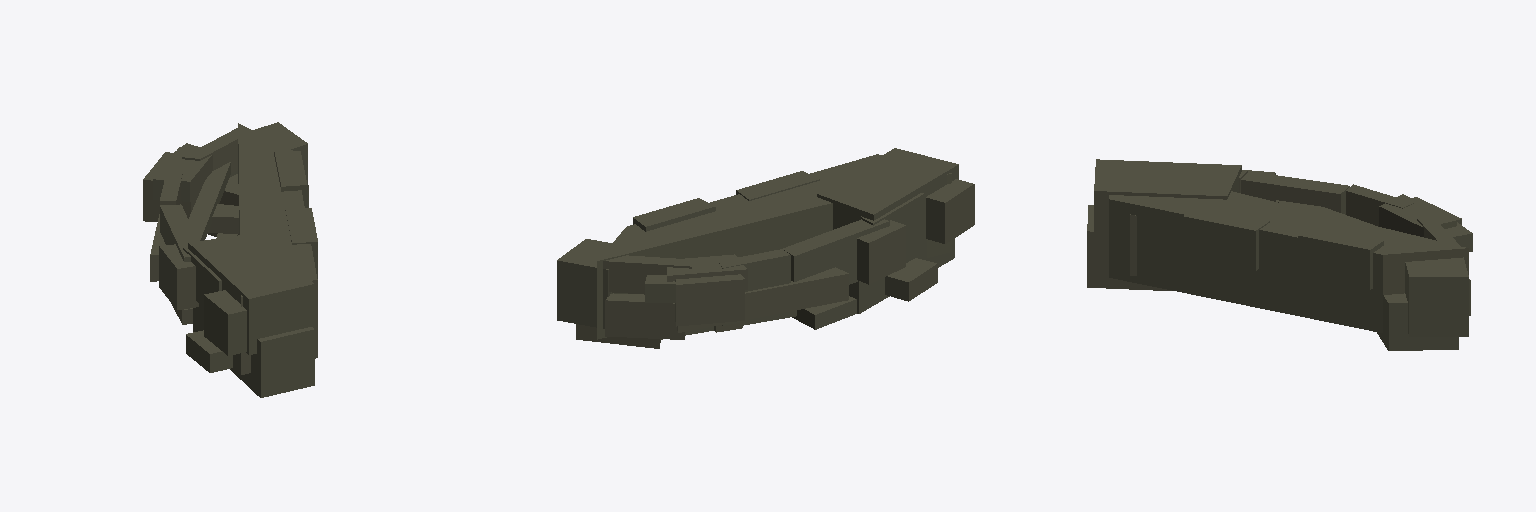
File: zcube_pathcurve01.obj
3 views of the same model, side by side, from view 1: azimuth 30°, elevation 25°; view 2: azimuth 150°, elevation 25°; view 3: azimuth 270°, elevation 25° (orthographic).
Parts seen in each view (by area): view 1: zcube_pathcurve01_Box001.036; view 2: zcube_pathcurve01_Box001.036; view 3: zcube_pathcurve01_Box001.036.
Boxes of the visible parts, box(x1,y1,x2,y2) form: zcube_pathcurve01_Box001.036: box(143, 122, 317, 397); zcube_pathcurve01_Box001.036: box(557, 148, 974, 348); zcube_pathcurve01_Box001.036: box(1087, 159, 1472, 350).
Size of the model in its own units: 10.16 by 4.14 by 14.49.